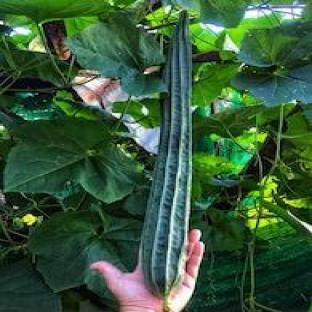Zucchini: (141, 11, 191, 297)
